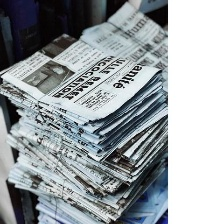news_paper: (0, 32, 162, 125), (76, 1, 184, 88)
